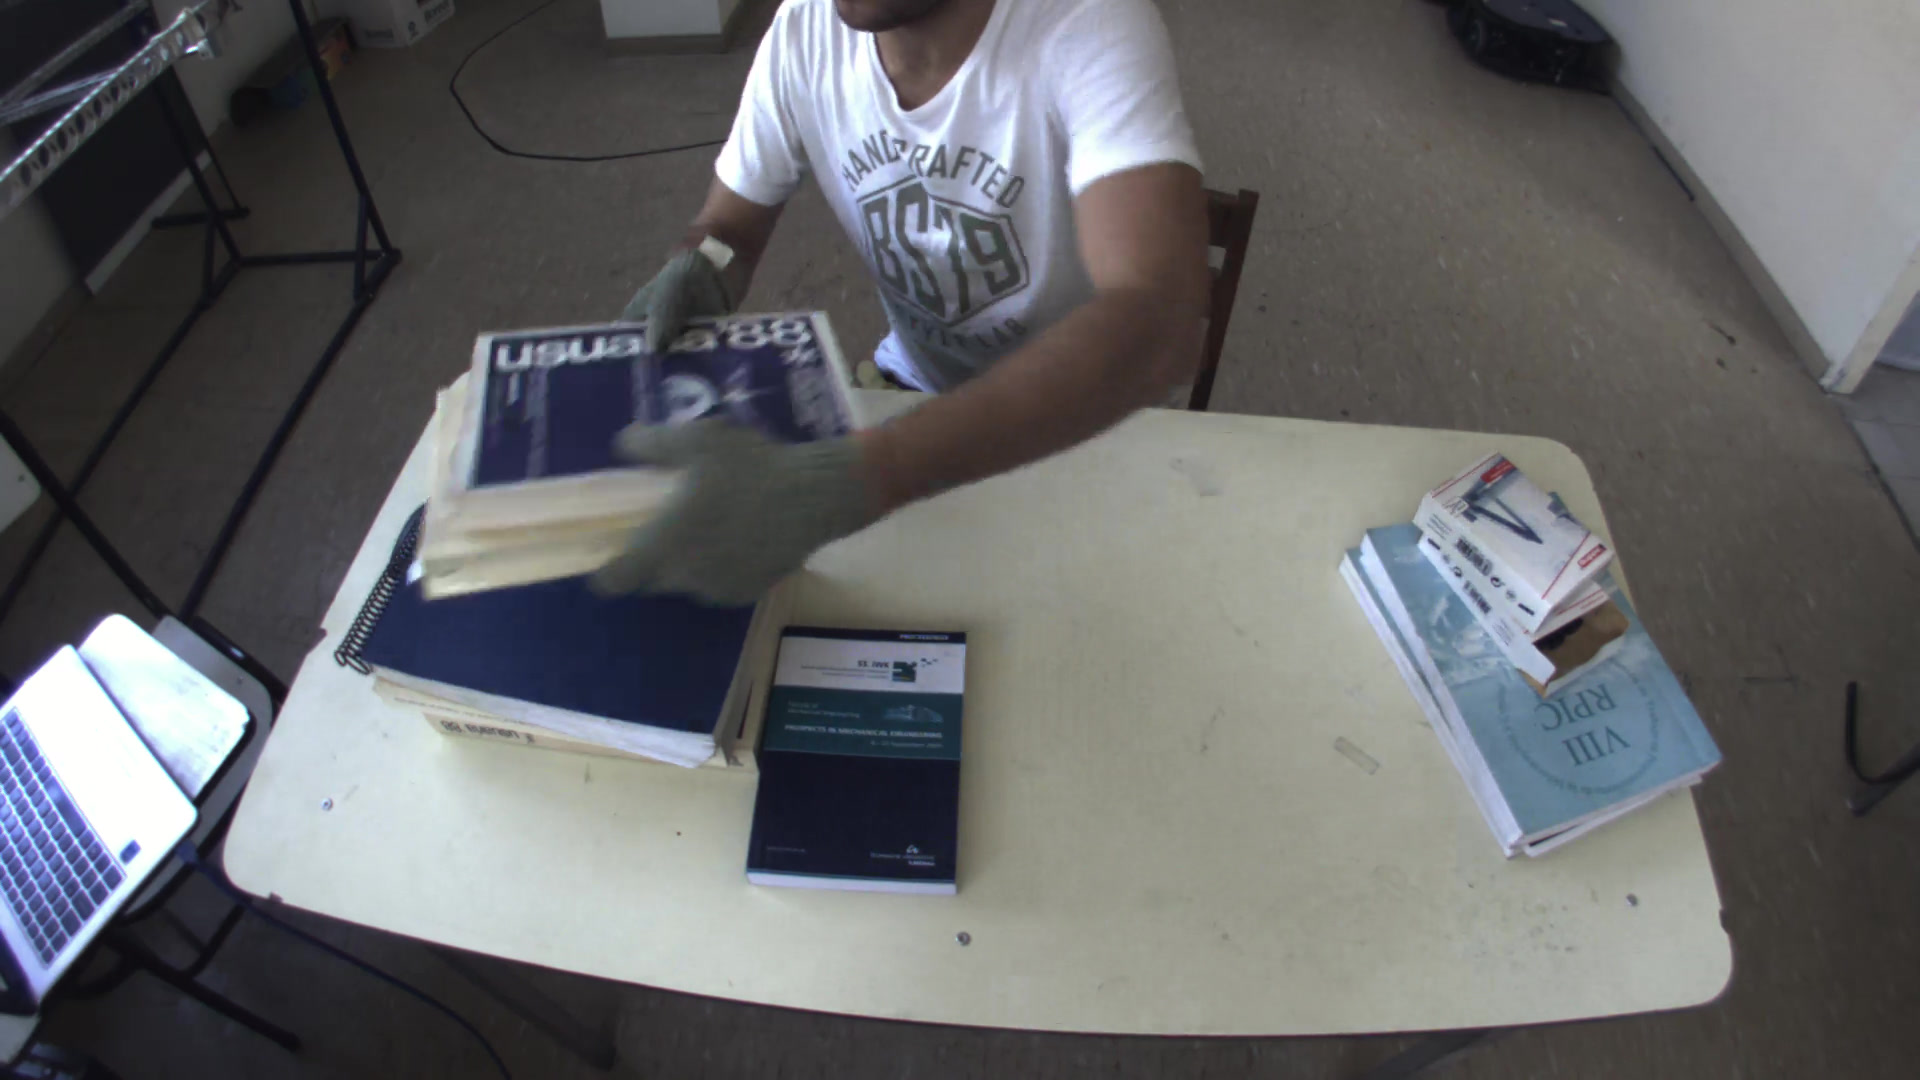hand: (574, 401, 886, 613), (618, 237, 731, 364)
